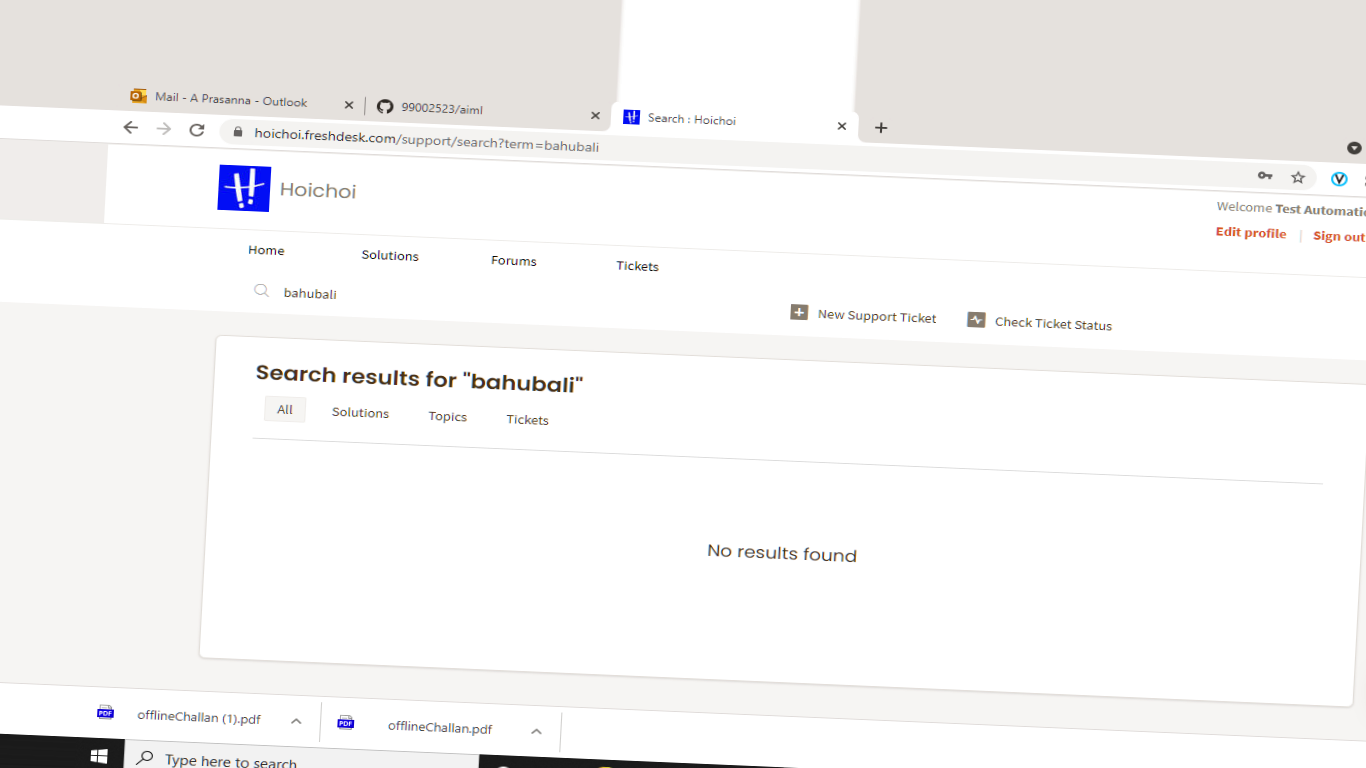noresultsfound: (677, 524, 886, 572)
profileicon: (1210, 222, 1300, 246)
searchicon: (245, 278, 274, 301)
searchtextbox: (243, 282, 696, 333)
